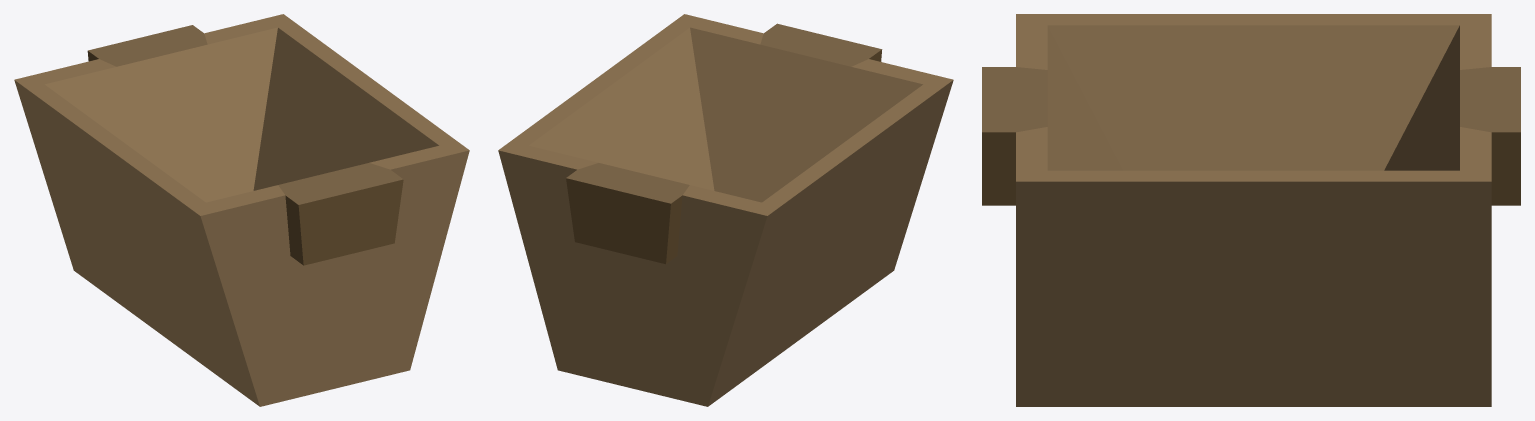
File: basket.fbx
The picture shows the model from 3 angles, left to right: view 1: azimuth 30°, elevation 25°; view 2: azimuth 150°, elevation 25°; view 3: azimuth 270°, elevation 25°; orthographic projection. The views are drawn at different scales.
Parts seen in each view (by area): view 1: pCube1; view 2: pCube1; view 3: pCube1.
Part boxes in pixels (x1,y1,x2,y2): pCube1: (14, 14, 469, 406); pCube1: (498, 14, 953, 406); pCube1: (982, 14, 1520, 406).
Bounding box in the file's own units: 1.37 × 1 × 1.86.
